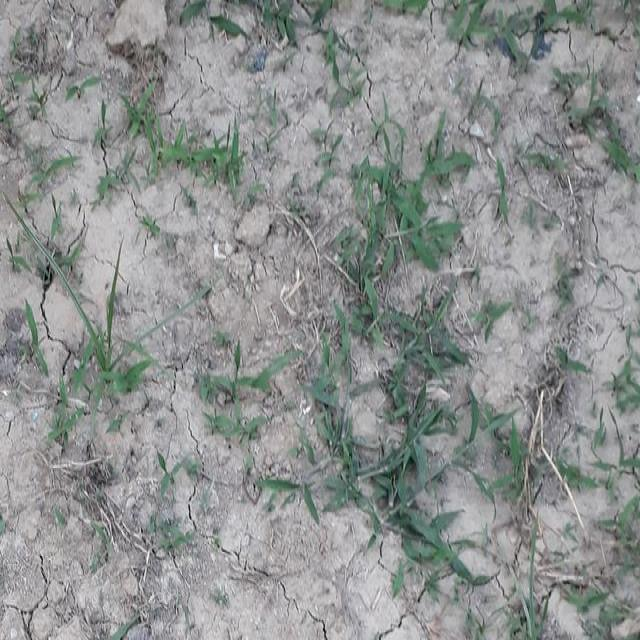weed: (349, 148, 469, 586), (15, 201, 180, 434), (109, 99, 245, 178), (404, 5, 568, 61)
